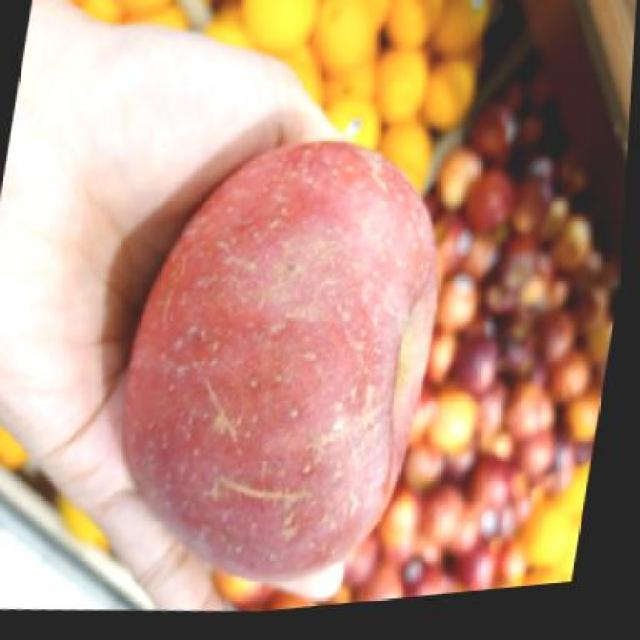Fresh Apple: (140, 150, 429, 572)
